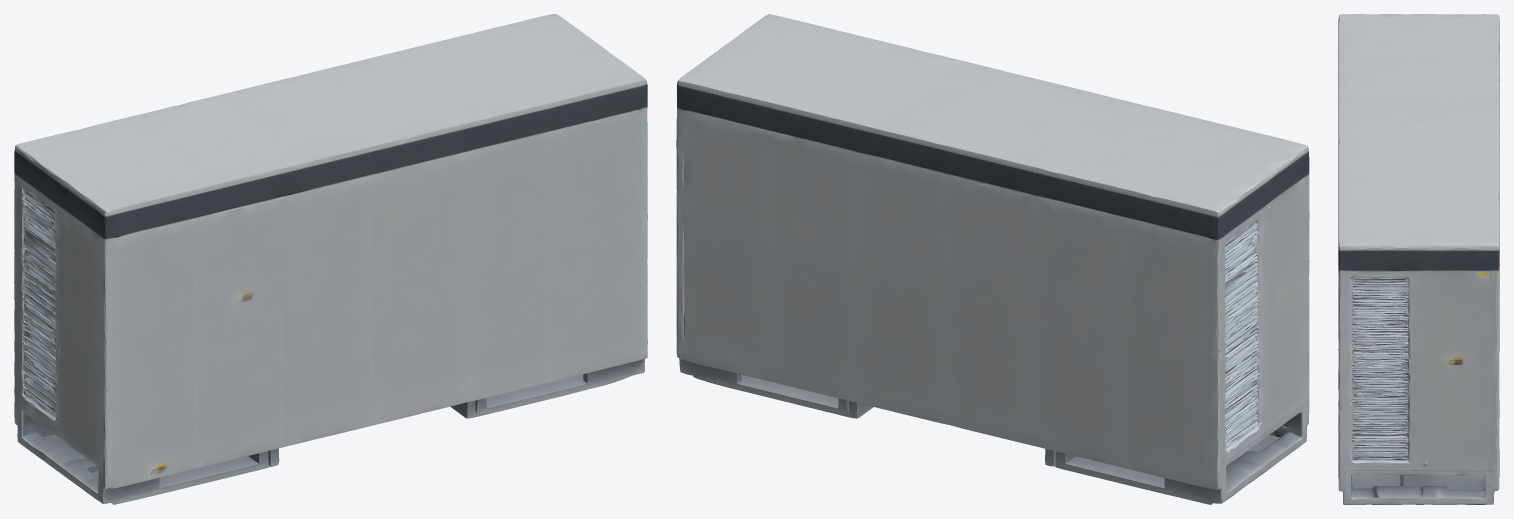
The model's file is container.glb.
The picture shows the model from 3 angles, left to right: view 1: azimuth 30°, elevation 25°; view 2: azimuth 150°, elevation 25°; view 3: azimuth 270°, elevation 25°; orthographic projection. The views are drawn at different scales.
Parts seen in each view (by area): view 1: Mesh; view 2: Mesh; view 3: Mesh.
Boxes of the visible parts, x1,y1,x2,y2 form: Mesh: (14, 14, 647, 504); Mesh: (676, 14, 1309, 504); Mesh: (1338, 14, 1499, 504).
Size of the model in its own units: 1.92 by 1.01 by 0.561.
1 material, 1 textured.
